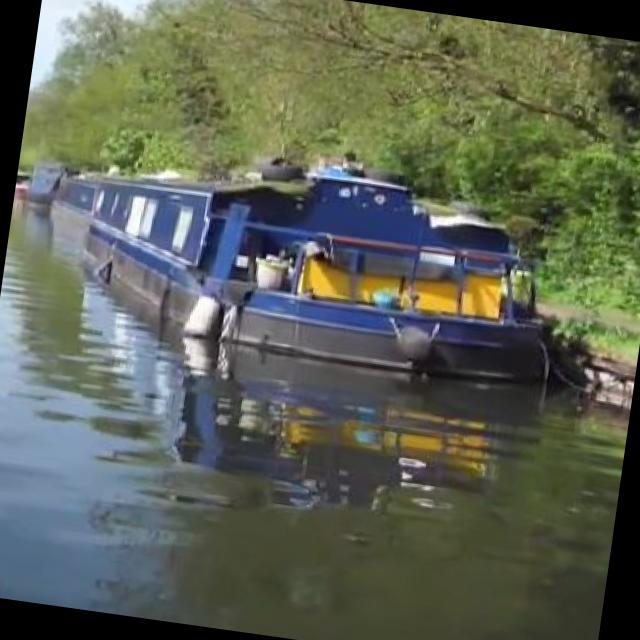boat: (69, 160, 580, 398)
